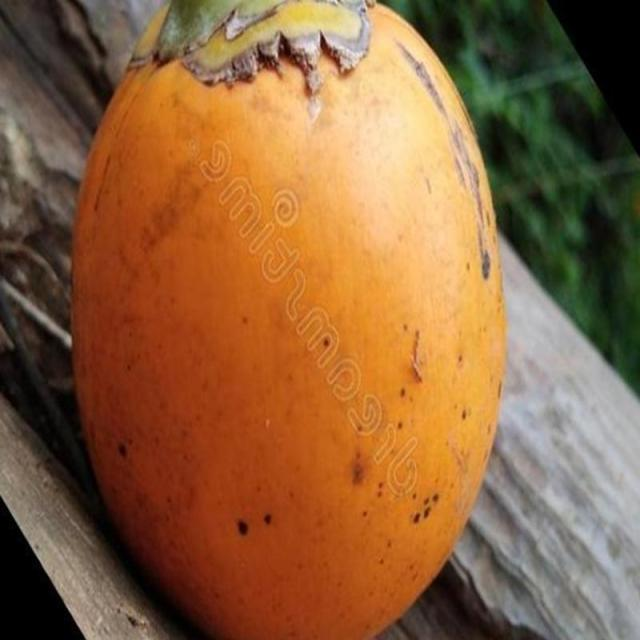good: (71, 0, 506, 639)
